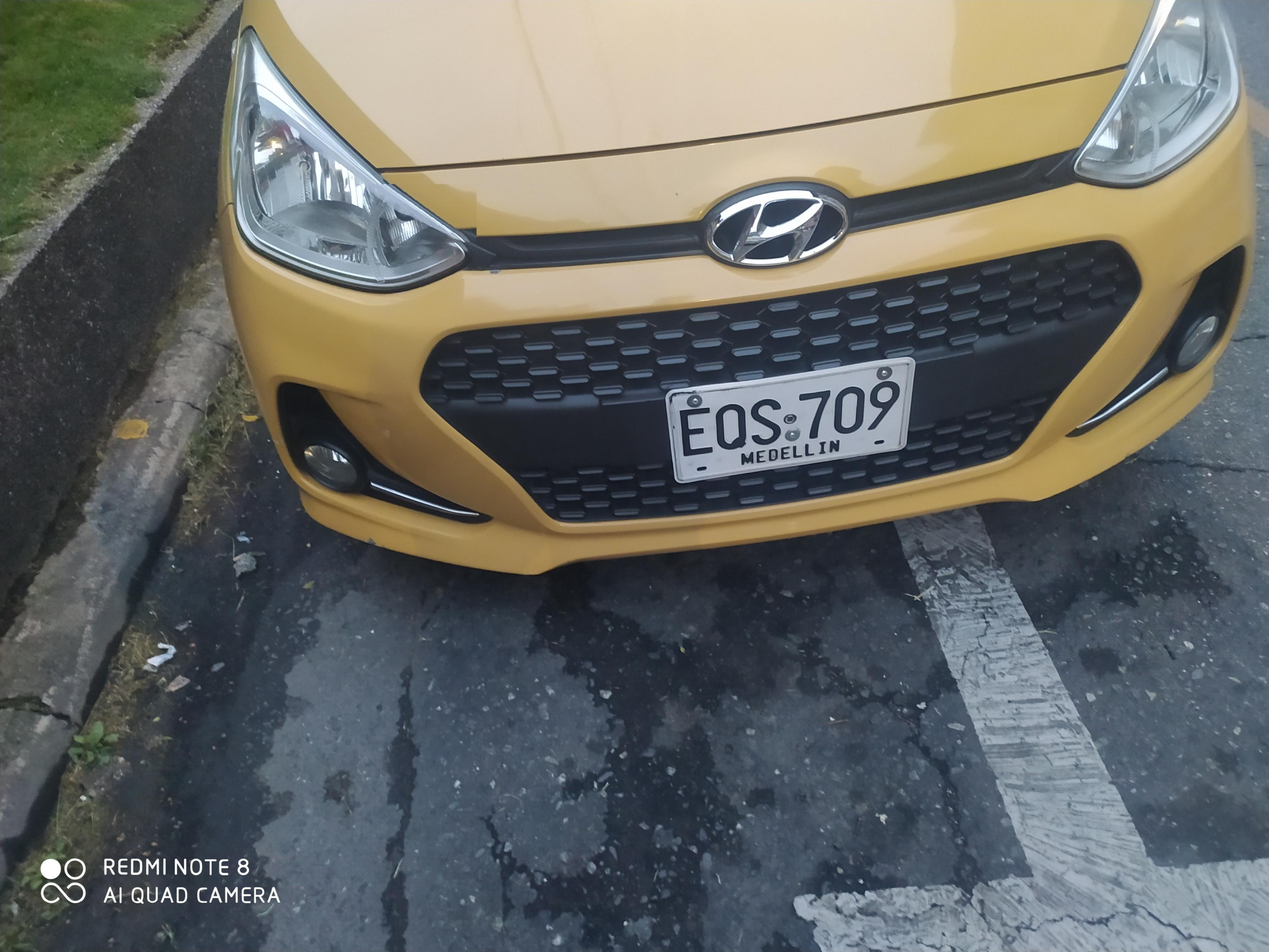placa: (648, 359, 931, 489)
